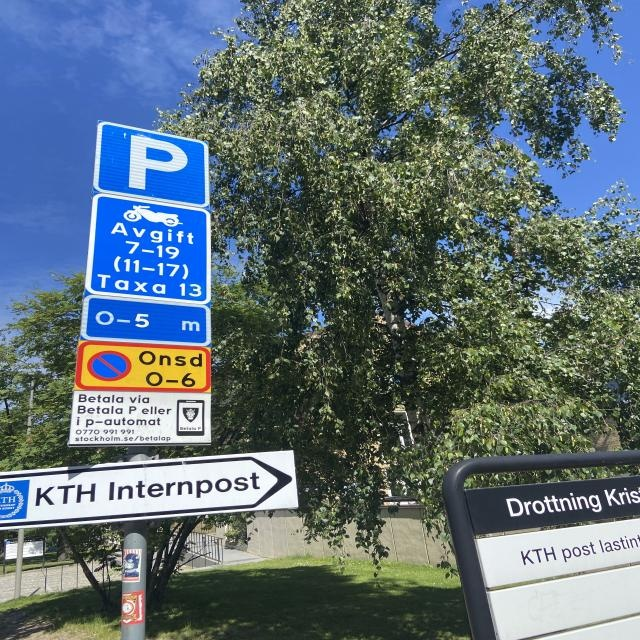P-skylt: (94, 120, 208, 208)
